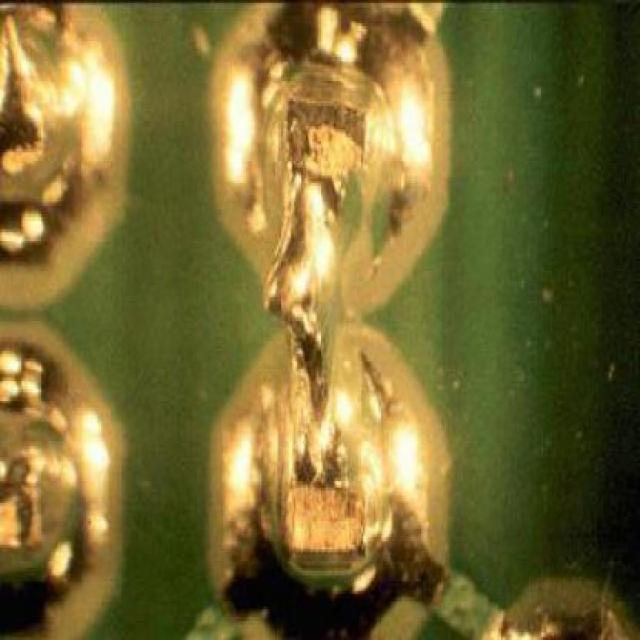Soldering shorted: (233, 12, 438, 632)
